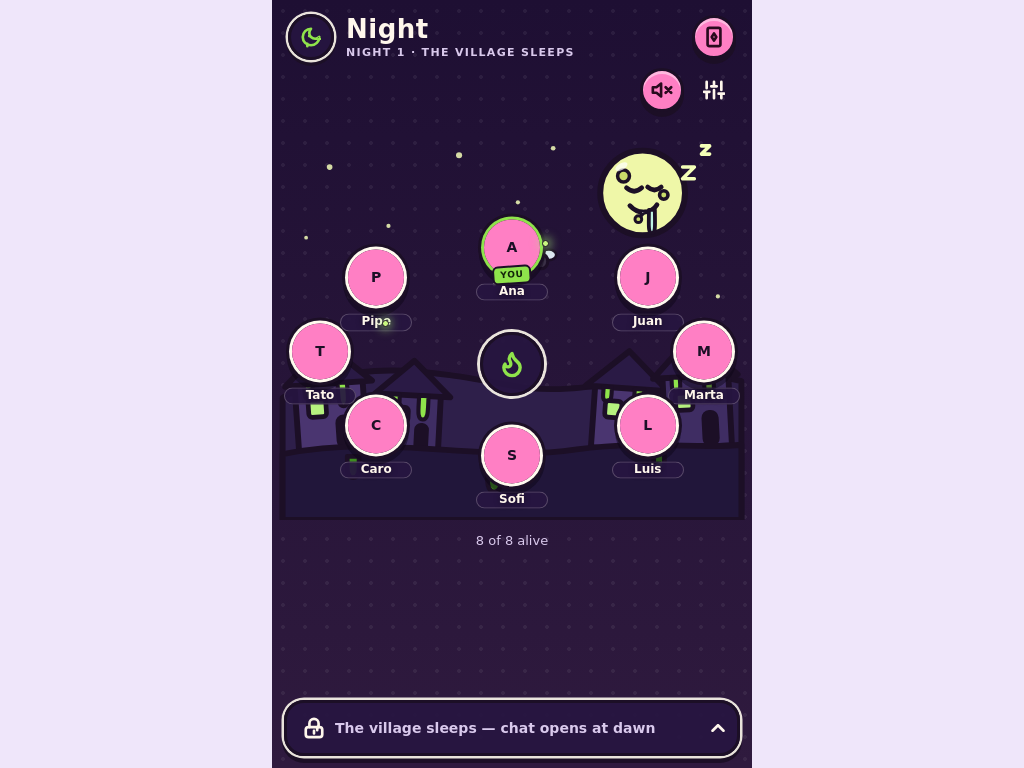
chat bar and sheet › shows the night note on the bar and instead of a composer
Click the button with class "chatbar". click: (512, 728)
box: [284, 700, 740, 756]
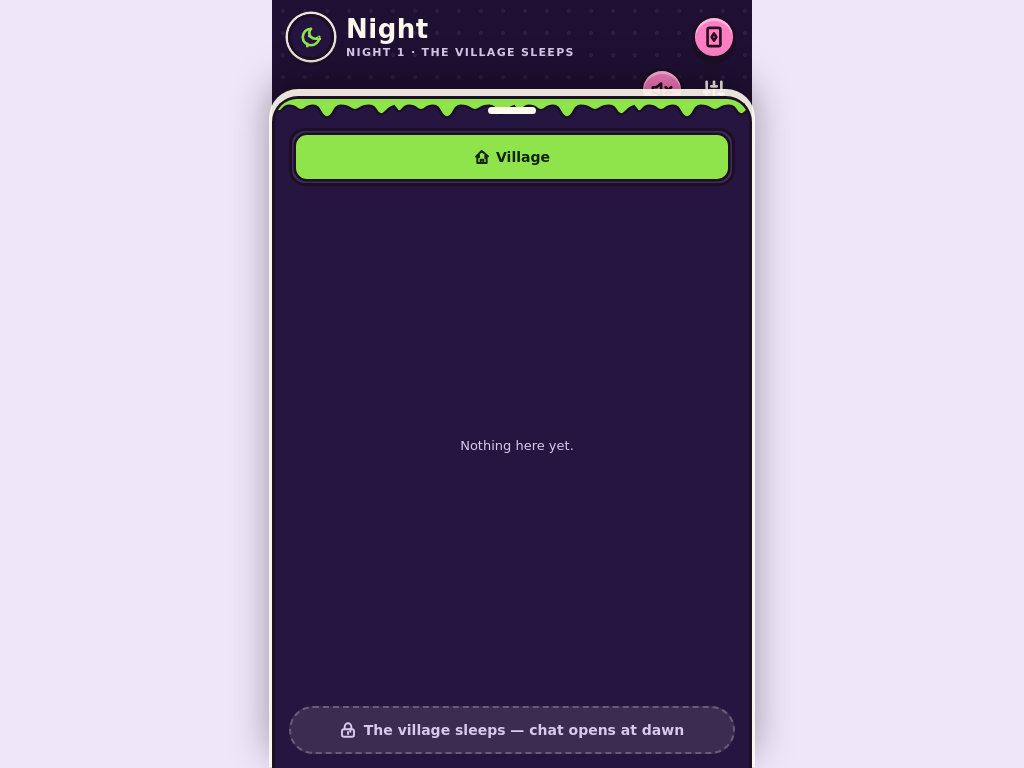
expect the message with class "locked-note" reads "The village sleeps — chat opens at dawn": met, box [364, 722, 684, 738]
